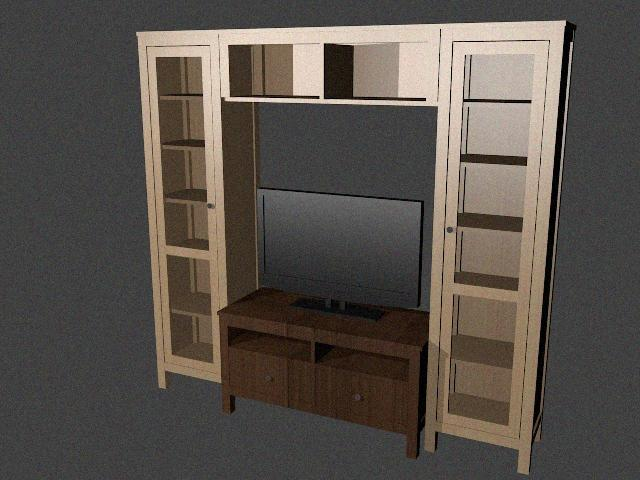cabinet_door: (444, 42, 534, 432), (156, 46, 214, 368), (317, 375, 419, 416), (229, 356, 317, 395)
handle: (264, 373, 279, 388), (352, 391, 366, 406), (444, 223, 456, 239), (206, 201, 216, 211)
